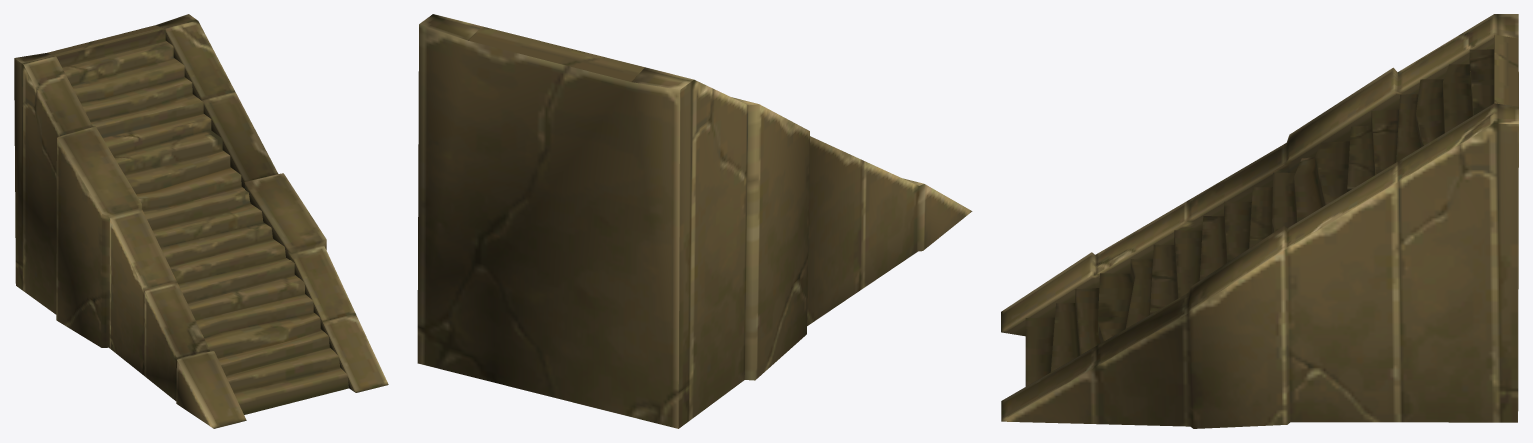
File: environment_common_shijie_002_a.FBX
3 renders of one model, left to right at view 1: azimuth 30°, elevation 25°; view 2: azimuth 150°, elevation 25°; view 3: azimuth 270°, elevation 25°, orthographic. The views are drawn at different scales.
Parts seen in each view (by area): view 1: environment_common_shijie_002_a; view 2: environment_common_shijie_002_a; view 3: environment_common_shijie_002_a.
Part boxes in pixels (left/top/right/bottom): environment_common_shijie_002_a: left=14, top=14, right=388, bottom=428; environment_common_shijie_002_a: left=417, top=14, right=972, bottom=428; environment_common_shijie_002_a: left=1001, top=14, right=1518, bottom=428.
Bounding box in the file's own units: 662 × 757 × 1177.
